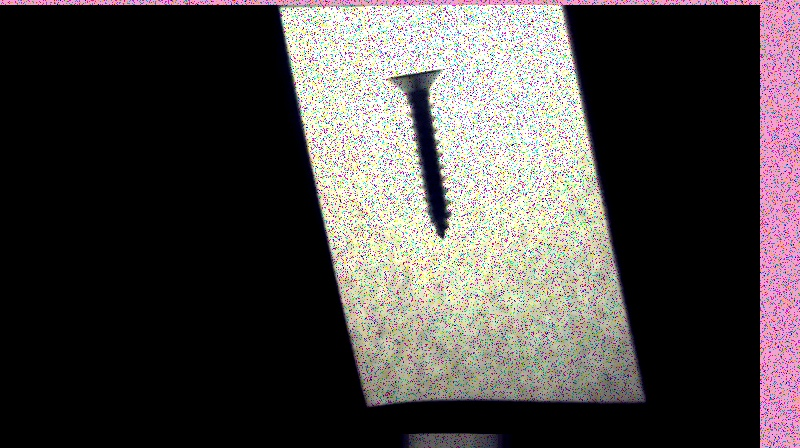S001: (380, 65, 457, 240)
